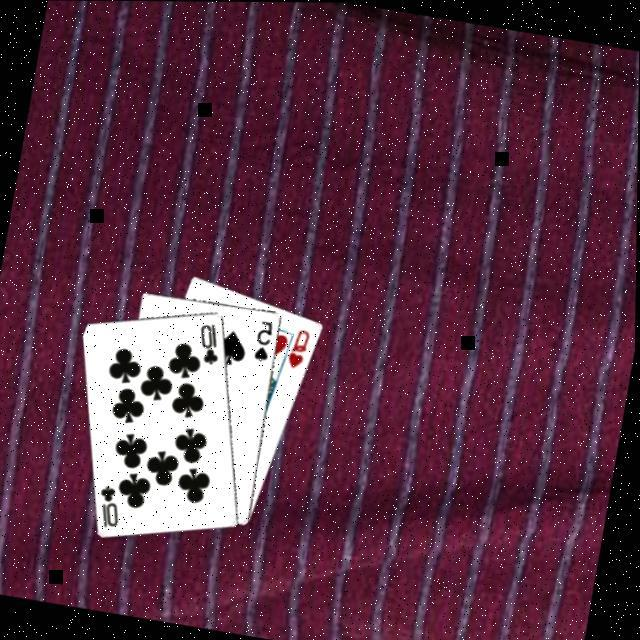10C: (194, 320, 230, 370), (93, 483, 129, 533)
5S: (251, 318, 279, 367)
QH: (285, 326, 317, 375)
